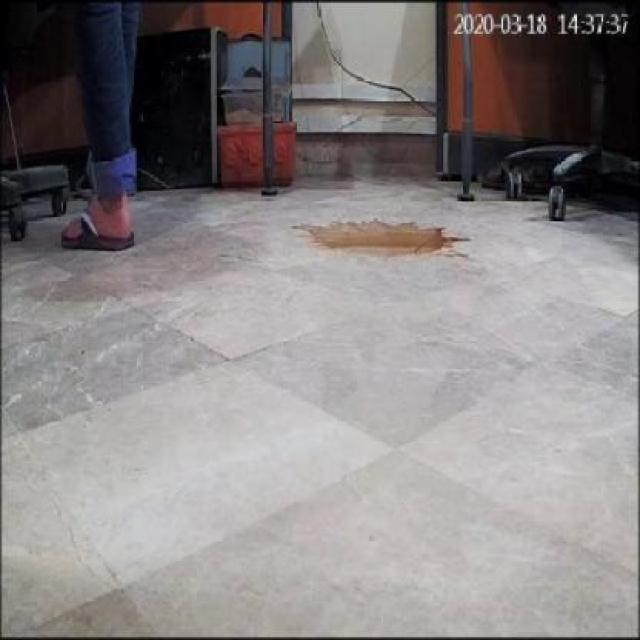spillage: (310, 222, 463, 257)
